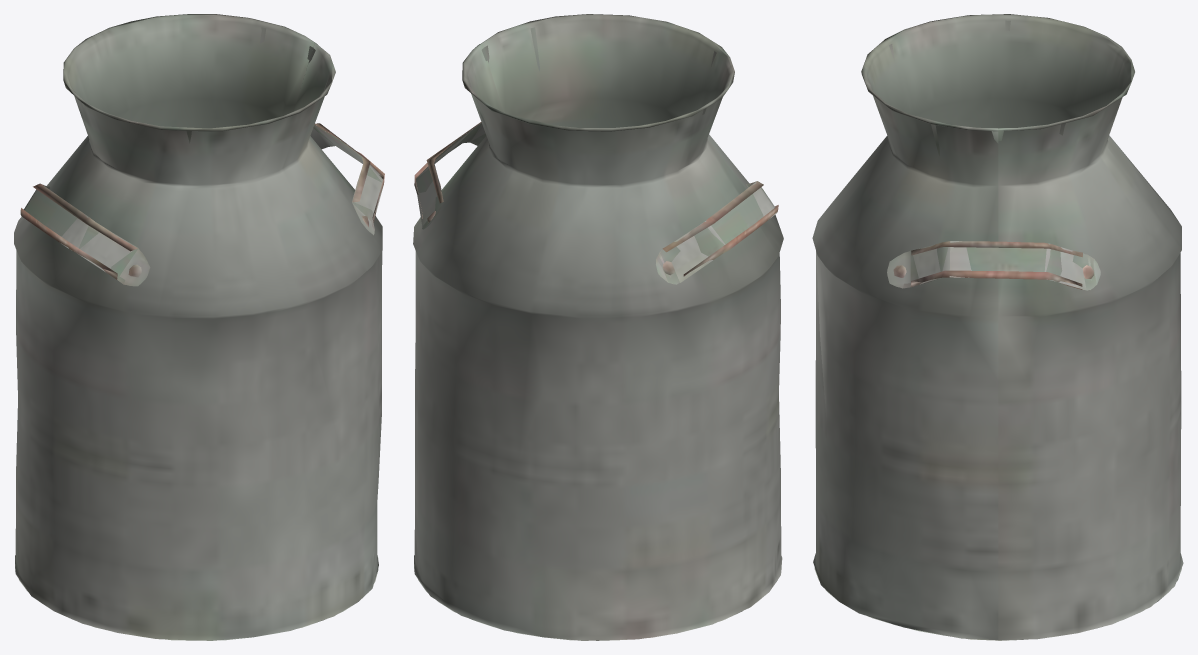
File: metal_jug.glb
3 views of the same model, side by side, from view 1: azimuth 30°, elevation 25°; view 2: azimuth 150°, elevation 25°; view 3: azimuth 270°, elevation 25° (orthographic).
Visible parts, largest first — view 1: metal_jug; view 2: metal_jug; view 3: metal_jug.
Part boxes in pixels (left/top/right/bottom): metal_jug: left=14, top=14, right=384, bottom=640; metal_jug: left=413, top=14, right=783, bottom=640; metal_jug: left=812, top=14, right=1183, bottom=640.
Bounding box in the file's own units: 0.1969 × 0.2877 × 0.1966.
Materials: 1 (1 with a texture image).
